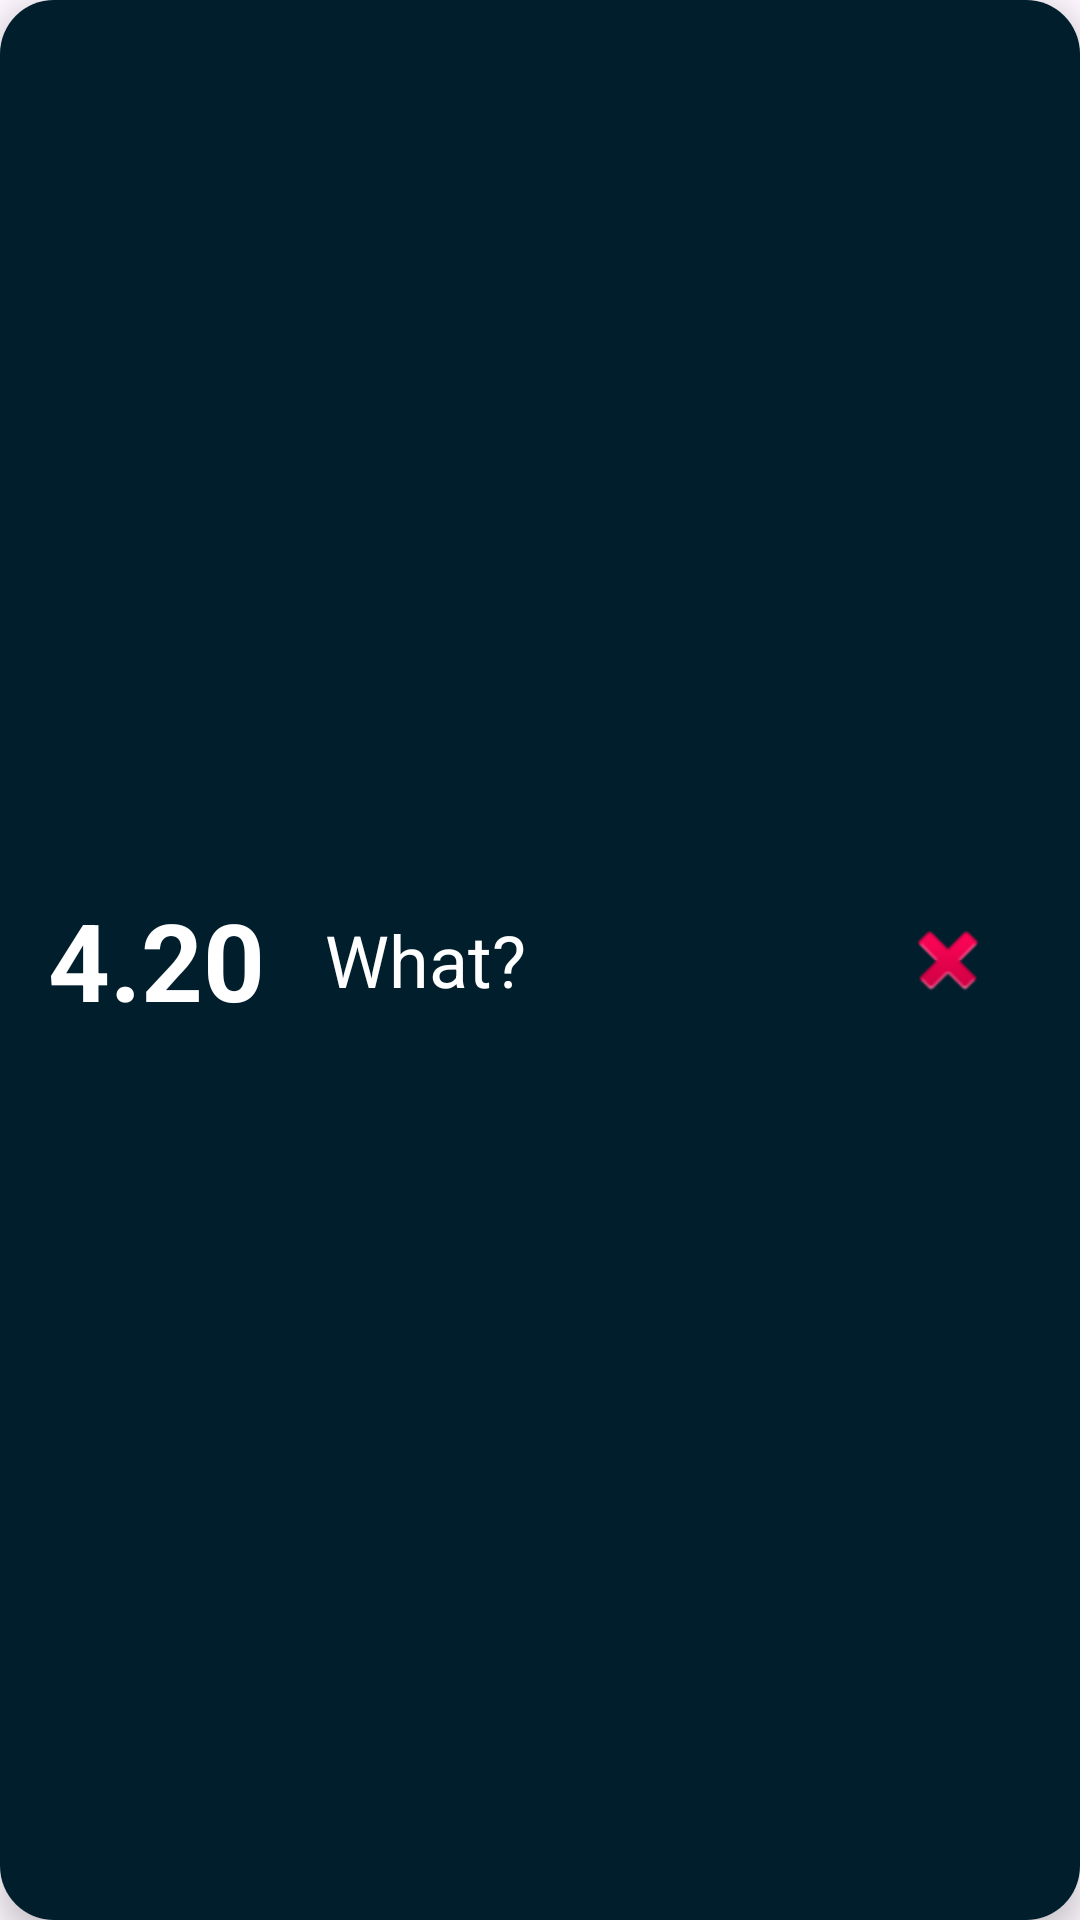

Icon bounding boxes for this 1080x1920 phone screenshot, format detection(x1, y1, x2, y2):
delete: detection(917, 931, 979, 990)
